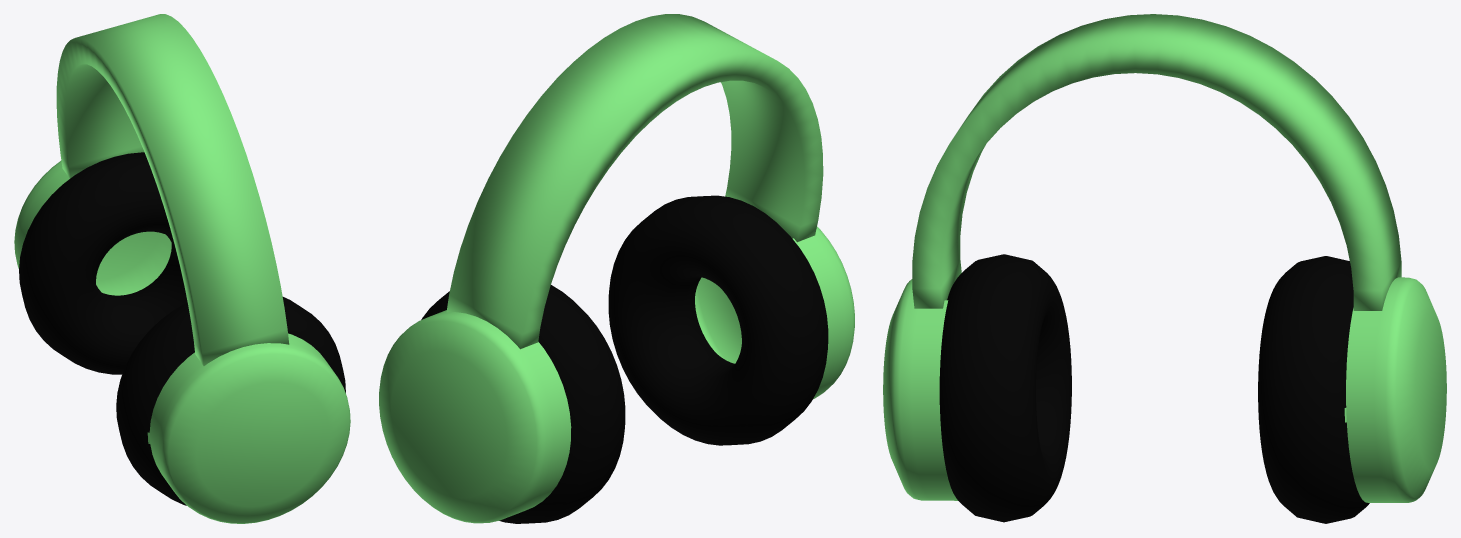
The model's file is music3.glb.
The picture shows the model from 3 angles, left to right: view 1: azimuth 30°, elevation 25°; view 2: azimuth 150°, elevation 25°; view 3: azimuth 270°, elevation 25°; orthographic projection. The views are drawn at different scales.
Parts seen in each view (by area): view 1: Torus.004; view 2: Torus.004; view 3: Torus.004.
Part boxes in pixels (x1,y1,x2,y2): Torus.004: (14, 14, 350, 523); Torus.004: (379, 14, 854, 523); Torus.004: (883, 14, 1446, 523).
Size of the model in its own units: 0.677 by 1.1 by 1.18.
